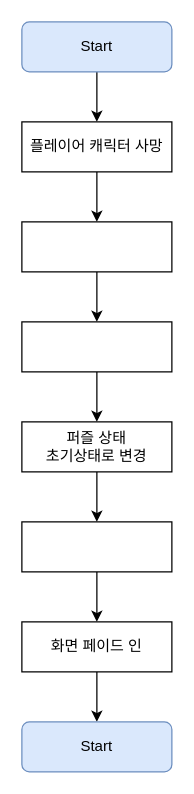
Some shapes in this 194 by 794 pixel diagram are drawn without their labels. The centre of each missing label's shape, as x and y in pixels:
리스폰 포인트에서 캐릭터 리스폰: (x=96, y=546)
퍼즐 위치 초기좌표로 이동: (x=96, y=346)
화면 페이드 아웃: (x=96, y=246)
